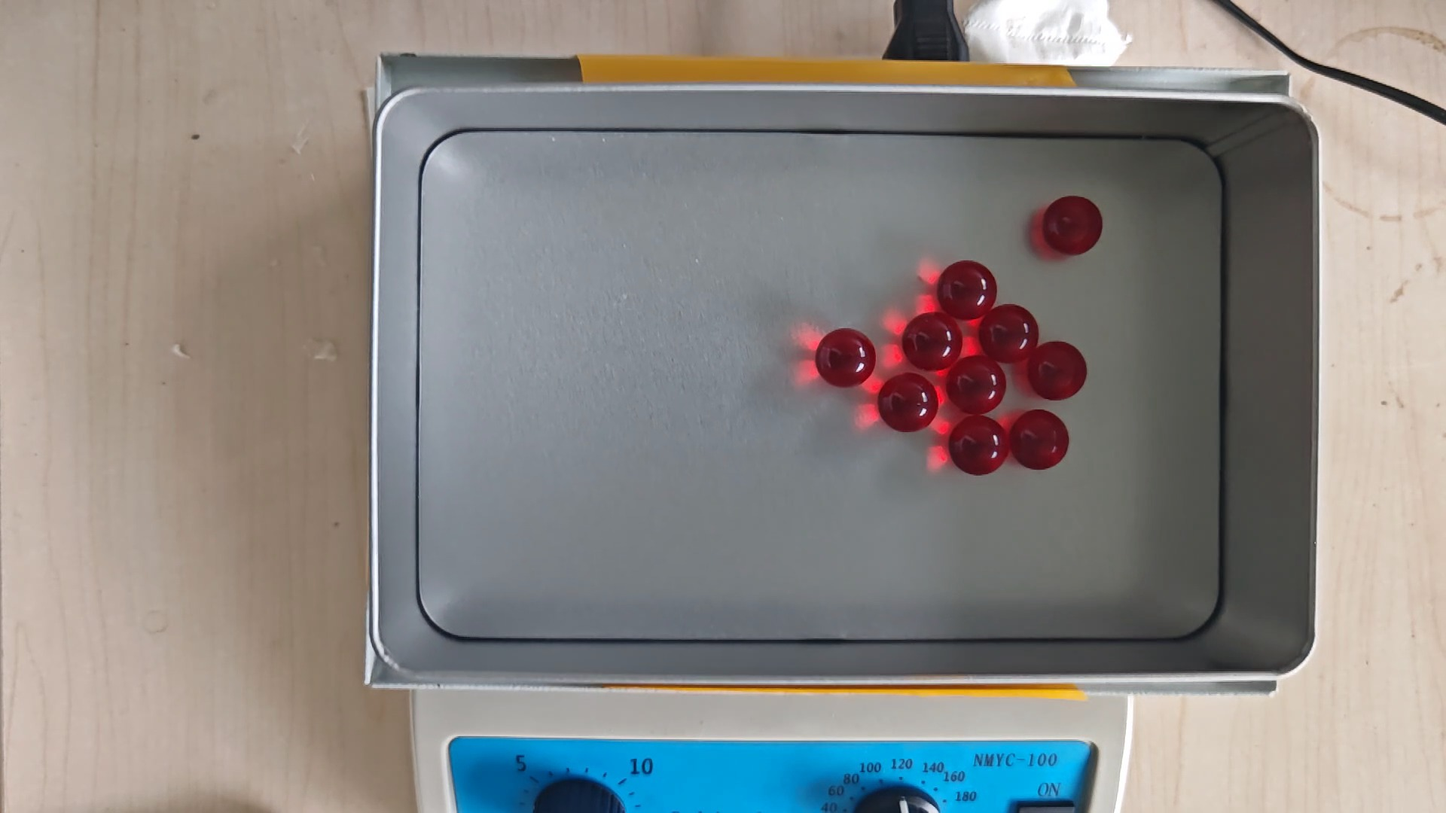ball: (1010, 408, 1070, 471), (878, 372, 938, 433), (816, 327, 875, 389), (949, 415, 1009, 475), (1043, 195, 1103, 255), (1029, 341, 1087, 400), (903, 313, 961, 372), (948, 356, 1007, 414), (938, 259, 995, 319), (981, 304, 1037, 361)
container: (418, 132, 1222, 641)
